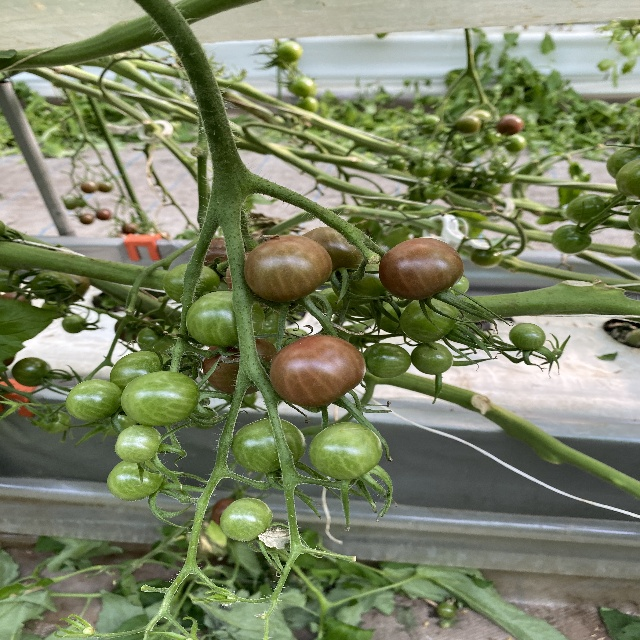l_green: (186, 290, 265, 348), (120, 371, 200, 427), (309, 422, 383, 480), (231, 418, 306, 474), (109, 351, 185, 390), (399, 296, 459, 343), (162, 262, 221, 305), (66, 379, 123, 423), (220, 497, 274, 542), (105, 460, 164, 501), (115, 425, 161, 464), (363, 343, 411, 379), (137, 324, 184, 358), (375, 297, 414, 335), (410, 342, 454, 375), (31, 271, 76, 302), (94, 406, 140, 436), (565, 193, 610, 223), (551, 225, 592, 254), (12, 358, 50, 387), (615, 158, 640, 200), (509, 322, 545, 350), (38, 409, 72, 434), (606, 154, 640, 179), (471, 250, 504, 268), (62, 315, 87, 334), (449, 276, 468, 295)
l_half_ripened: (268, 335, 367, 407), (244, 234, 333, 303), (378, 237, 464, 300), (201, 336, 279, 396), (304, 226, 364, 283), (332, 256, 387, 306)
